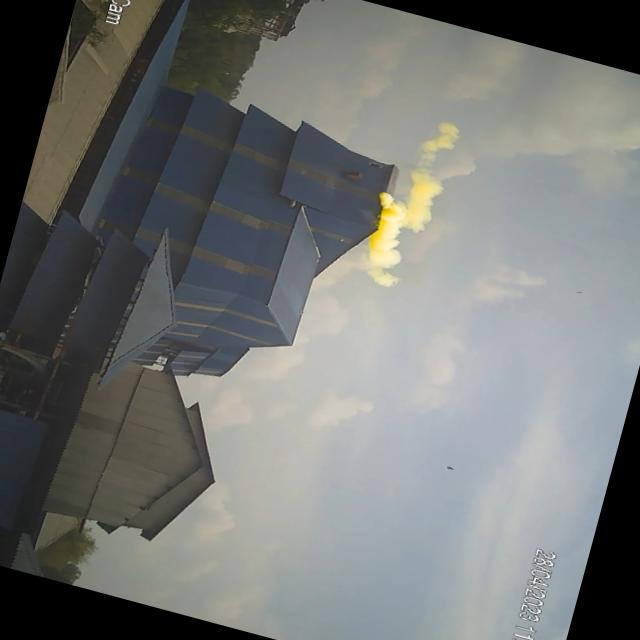yellow smoke: (352, 106, 468, 298)
